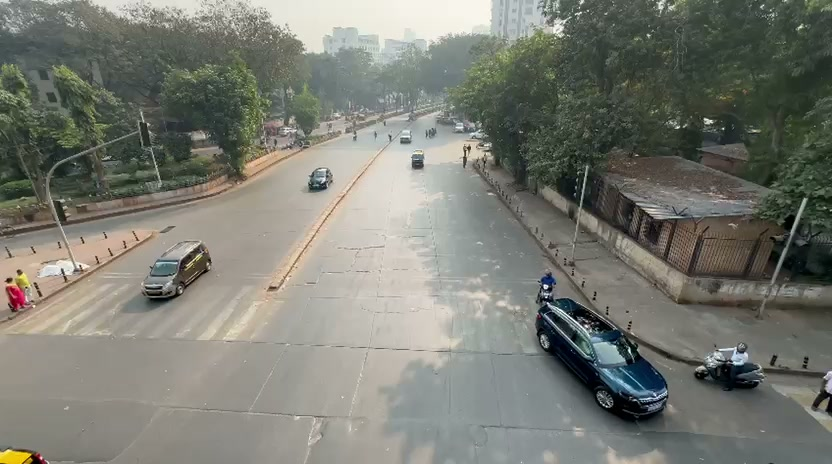car: (535, 296, 670, 421), (141, 239, 213, 299), (696, 354, 766, 389), (37, 258, 91, 281), (307, 167, 333, 191), (411, 151, 425, 170), (399, 130, 412, 144)
motorcycle: (697, 355, 766, 390)
pedestrian: (5, 278, 32, 312), (811, 369, 832, 412), (538, 269, 556, 302), (16, 268, 31, 297), (732, 342, 748, 367)
